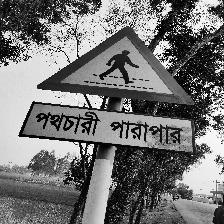Pedestrian-crossing: (28, 26, 198, 154)
